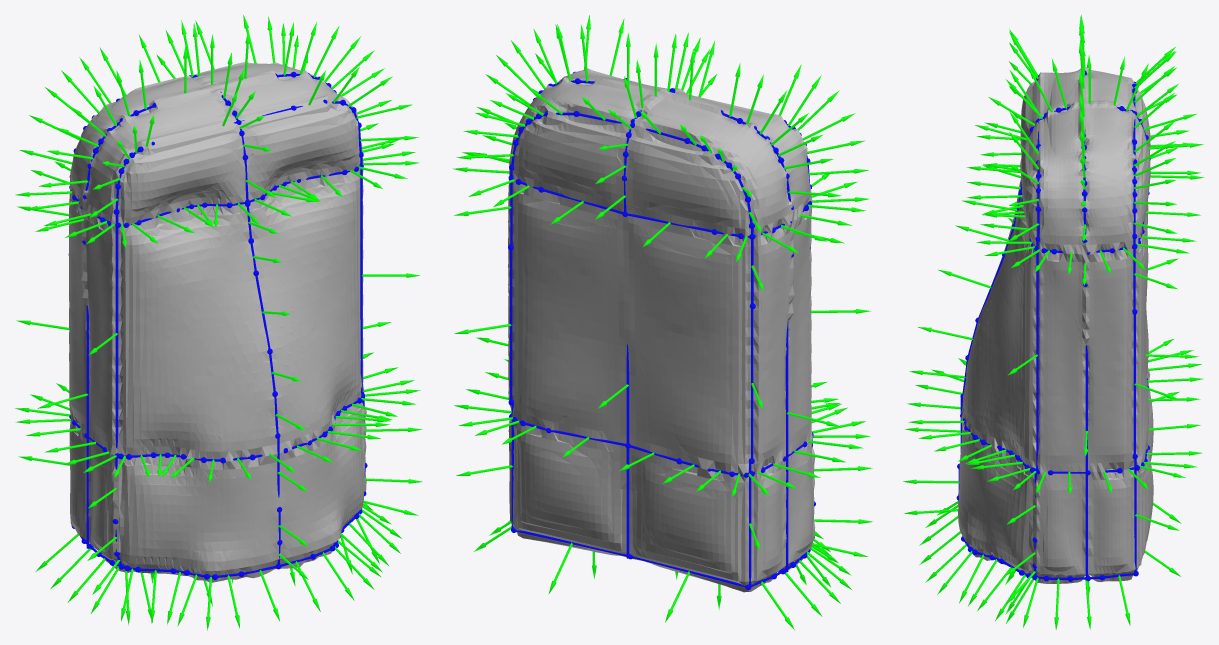
3 views of the same model, side by side, from view 1: azimuth 30°, elevation 25°; view 2: azimuth 150°, elevation 25°; view 3: azimuth 270°, elevation 25° (orthographic). The views are drawn at different scales.
Size of the model in its own units: 0.6981 by 0.9907 by 0.5249.
